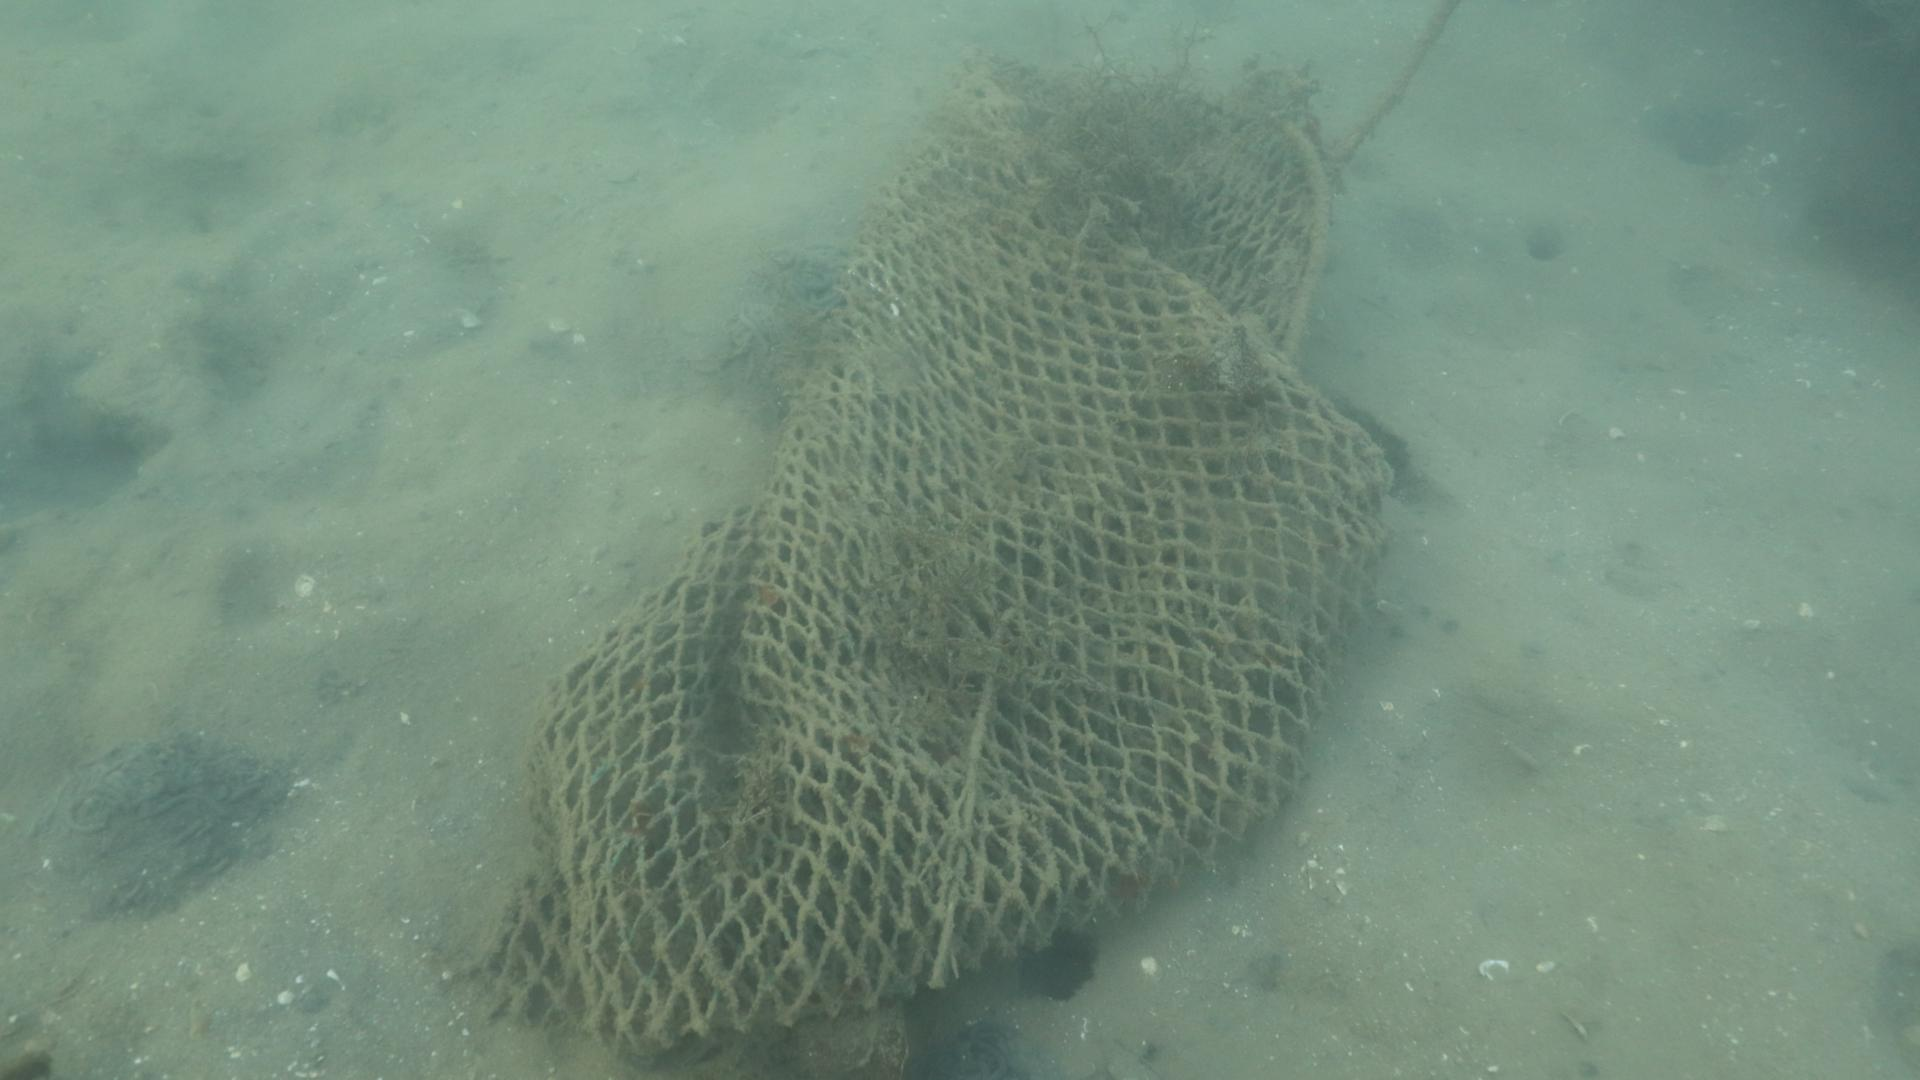fish net: (468, 117, 1396, 1056)
